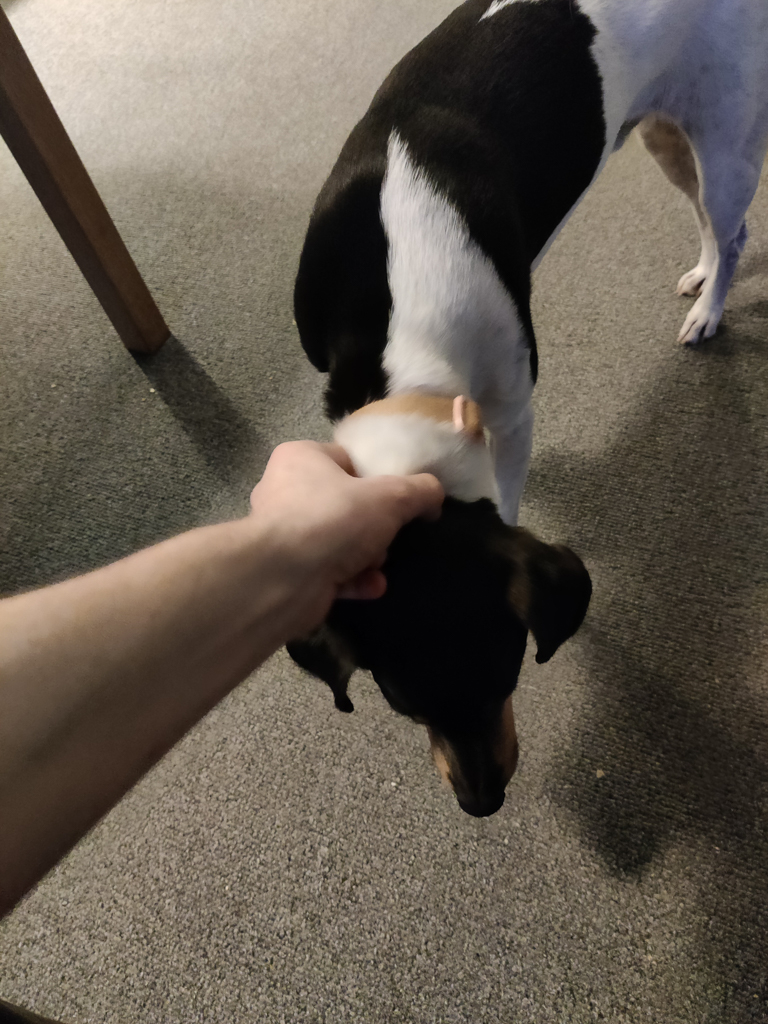Dog: (222, 0, 768, 858)
Humanoid: (0, 422, 473, 952)
